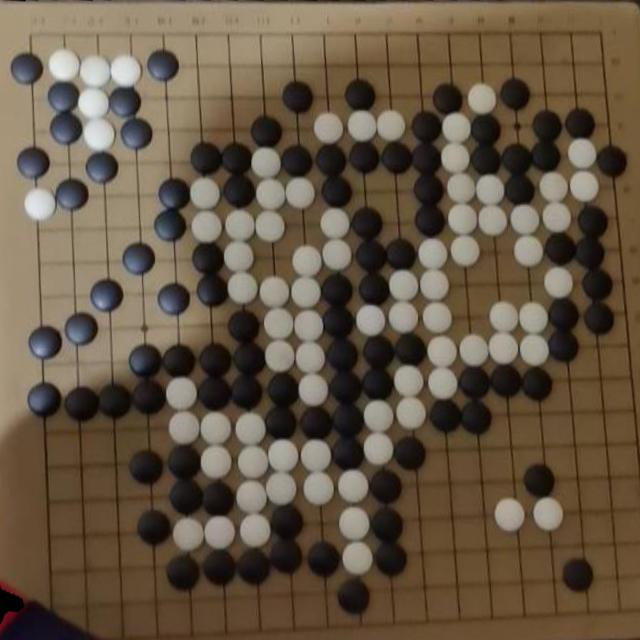blackstone: (168, 478, 205, 516), (268, 537, 304, 574), (202, 548, 237, 586), (130, 379, 166, 415), (166, 444, 202, 480), (201, 481, 237, 517), (368, 468, 404, 504), (236, 548, 272, 584), (97, 384, 132, 420), (64, 387, 100, 422), (128, 449, 163, 485), (136, 509, 171, 545), (166, 554, 201, 590), (27, 383, 62, 418), (198, 376, 233, 411), (307, 542, 342, 577), (161, 344, 197, 378), (370, 506, 404, 542), (337, 578, 371, 614), (89, 280, 124, 314), (28, 326, 62, 361), (393, 436, 427, 471), (269, 504, 304, 538), (331, 403, 365, 438), (16, 147, 50, 181), (547, 328, 581, 362), (266, 372, 300, 406), (574, 235, 608, 269), (429, 400, 463, 434), (230, 376, 264, 410), (459, 400, 493, 434), (129, 344, 162, 379), (580, 268, 614, 301), (222, 175, 256, 208), (521, 367, 554, 401), (227, 309, 261, 342), (300, 406, 334, 439), (264, 407, 298, 440), (544, 232, 577, 266), (326, 339, 360, 372), (575, 205, 609, 238), (374, 542, 407, 576), (198, 344, 233, 376), (50, 112, 83, 145), (321, 273, 354, 306), (332, 437, 365, 470), (157, 284, 191, 316), (86, 153, 120, 185), (64, 314, 98, 346), (55, 180, 89, 212), (192, 242, 226, 274), (583, 302, 615, 336), (280, 145, 314, 177), (490, 364, 522, 398), (355, 240, 389, 272), (321, 305, 355, 337), (523, 464, 555, 498), (328, 372, 362, 404), (314, 144, 348, 176), (596, 145, 628, 179), (146, 49, 180, 81), (120, 118, 153, 150), (47, 81, 80, 113), (547, 298, 580, 330), (190, 142, 222, 175), (221, 142, 254, 174), (358, 272, 390, 305), (380, 142, 413, 174), (10, 53, 43, 85), (499, 78, 532, 110), (432, 83, 465, 115), (562, 559, 594, 592), (122, 244, 156, 275), (108, 87, 142, 118), (233, 342, 264, 376), (386, 238, 418, 270), (348, 141, 380, 173), (282, 80, 314, 112), (394, 334, 426, 366), (195, 276, 228, 307), (350, 207, 383, 238), (154, 210, 186, 241), (414, 205, 446, 236), (321, 176, 353, 207), (504, 175, 536, 206), (470, 114, 502, 145), (363, 336, 394, 368), (362, 368, 393, 400), (250, 116, 283, 146), (564, 108, 597, 138), (344, 80, 377, 110), (158, 178, 190, 208), (531, 110, 563, 140), (412, 111, 442, 143), (414, 174, 444, 205), (532, 141, 561, 172), (413, 144, 442, 174), (472, 144, 501, 174), (502, 144, 530, 175)
whitestone: (234, 412, 268, 447), (203, 515, 237, 550), (82, 118, 116, 152), (301, 472, 335, 506), (337, 470, 370, 505), (338, 507, 371, 542), (172, 517, 205, 552), (24, 188, 57, 222), (168, 411, 201, 445), (165, 377, 198, 411), (200, 412, 233, 446), (200, 445, 233, 479), (237, 445, 270, 479), (265, 472, 298, 506), (300, 439, 333, 473), (239, 514, 272, 548), (341, 541, 374, 575), (494, 498, 526, 533), (533, 496, 564, 532), (267, 439, 300, 472), (363, 432, 395, 466), (362, 400, 394, 434), (426, 335, 458, 369), (191, 210, 223, 243), (223, 240, 256, 272), (262, 307, 294, 340), (258, 276, 290, 309), (298, 373, 330, 406), (393, 364, 425, 397), (458, 334, 490, 367), (236, 480, 268, 513), (264, 340, 296, 372), (388, 301, 420, 333), (224, 209, 256, 241), (290, 276, 322, 308), (395, 398, 427, 430), (255, 178, 287, 210), (255, 210, 287, 242), (427, 367, 459, 399), (190, 177, 222, 209), (487, 333, 519, 365), (48, 48, 80, 80), (110, 54, 142, 86), (566, 138, 598, 170), (79, 55, 111, 87), (294, 309, 325, 342), (447, 203, 478, 236), (519, 334, 550, 367), (355, 304, 386, 337), (227, 272, 258, 304), (422, 302, 453, 334), (450, 235, 481, 267), (295, 342, 326, 374), (388, 269, 419, 301), (510, 204, 541, 236), (250, 147, 282, 178), (541, 202, 572, 234), (543, 266, 574, 298), (285, 177, 316, 208), (313, 112, 344, 143), (467, 83, 498, 114), (322, 238, 352, 270), (418, 238, 448, 270), (420, 269, 450, 301), (320, 208, 350, 240), (514, 235, 544, 267), (441, 142, 471, 174), (539, 171, 569, 203), (347, 110, 377, 142), (78, 88, 110, 118), (569, 170, 599, 202), (478, 205, 508, 236), (291, 246, 322, 276), (519, 302, 549, 333), (488, 301, 518, 332), (441, 112, 471, 143), (376, 110, 406, 141), (446, 173, 476, 203), (476, 174, 505, 204)
